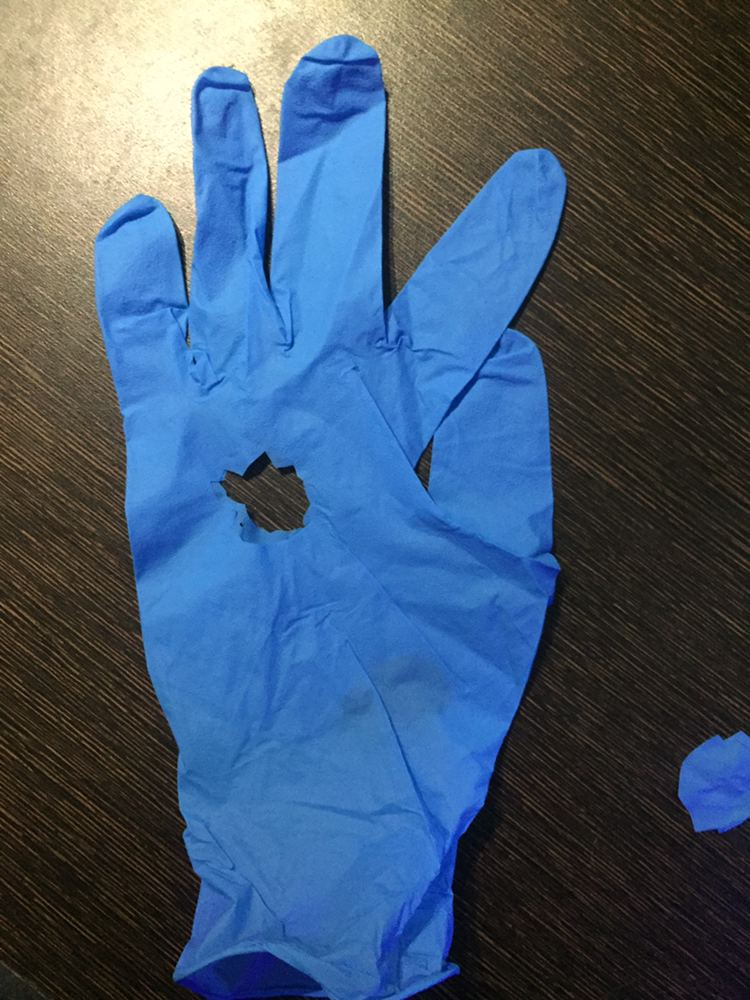defected: (39, 39, 627, 951)
